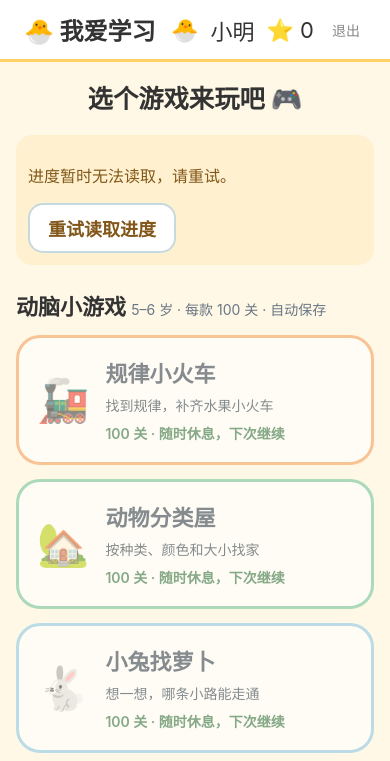
GamePage › blocks fresh puzzle starts on unreadable progress and allows retry without overwriting it
Check: the message shows "进度暂时无法读取", box [28, 166, 236, 186]
Check: the button "🚂 规律小火车 找到规律，补齐水果小火车 100 关 · 随时休息，下次继续" is disabled, box [16, 335, 374, 465]
Step 1. Click the button "重试读取进度" → (102, 228), box [28, 203, 176, 253]
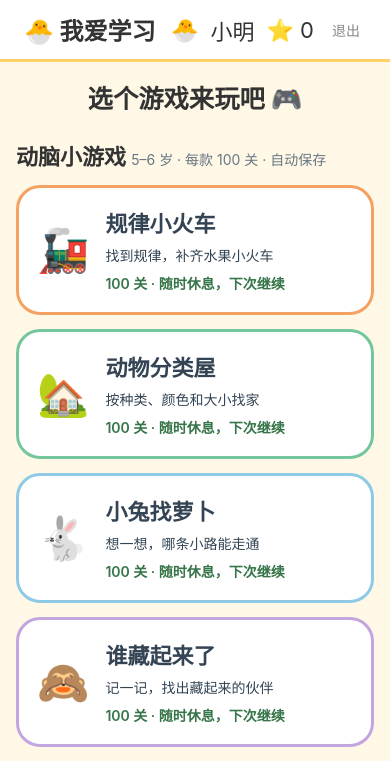
Check: the button "🚂 规律小火车 找到规律，补齐水果小火车 100 关 · 随时休息，下次继续" is enabled, box [16, 185, 374, 315]
